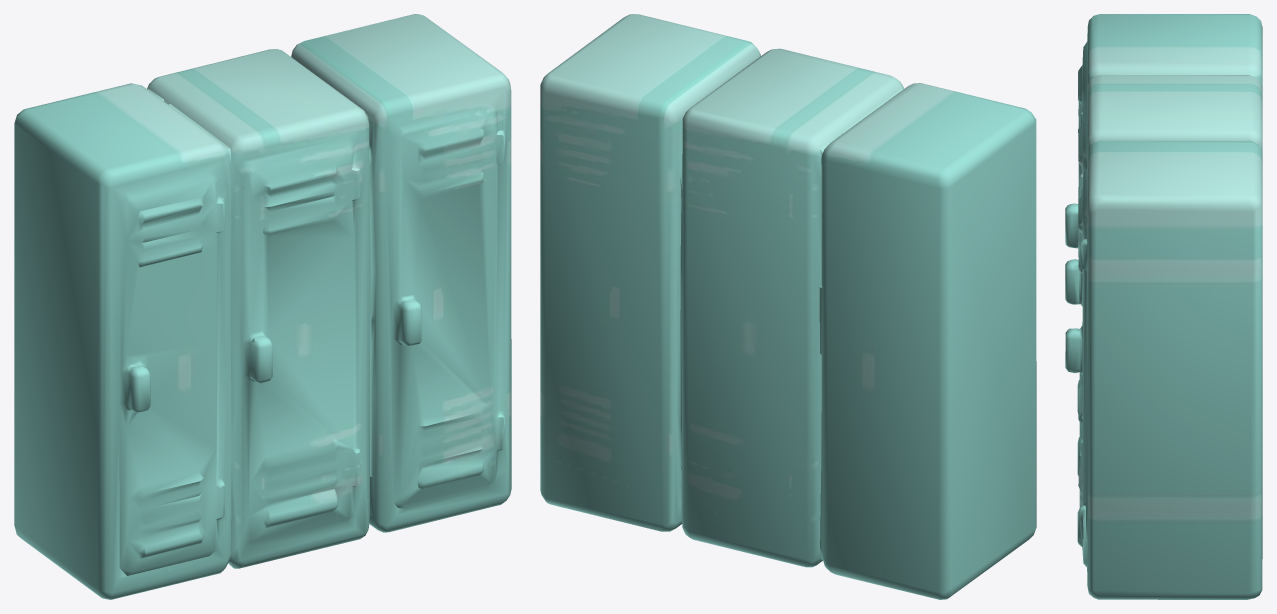
3 views of the same model, side by side, from view 1: azimuth 30°, elevation 25°; view 2: azimuth 150°, elevation 25°; view 3: azimuth 270°, elevation 25° (orthographic). The views are drawn at different scales.
Visible parts, largest first — view 1: Decor_gym_lockers; view 2: Decor_gym_lockers; view 3: Decor_gym_lockers.
Part boxes in pixels (left/top/right/bottom): Decor_gym_lockers: left=14, top=14, right=511, bottom=599; Decor_gym_lockers: left=540, top=14, right=1036, bottom=599; Decor_gym_lockers: left=1065, top=14, right=1262, bottom=599.
Bounding box in the file's own units: 1.9 × 1.9 × 0.8385.
1 material, 1 textured.
